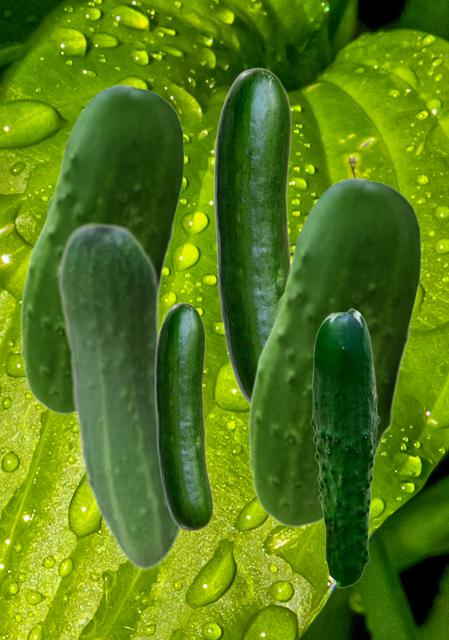cucumber: (248, 177, 420, 527), (20, 84, 183, 414), (57, 220, 184, 570), (213, 67, 291, 402), (310, 308, 379, 587), (154, 302, 212, 530)
